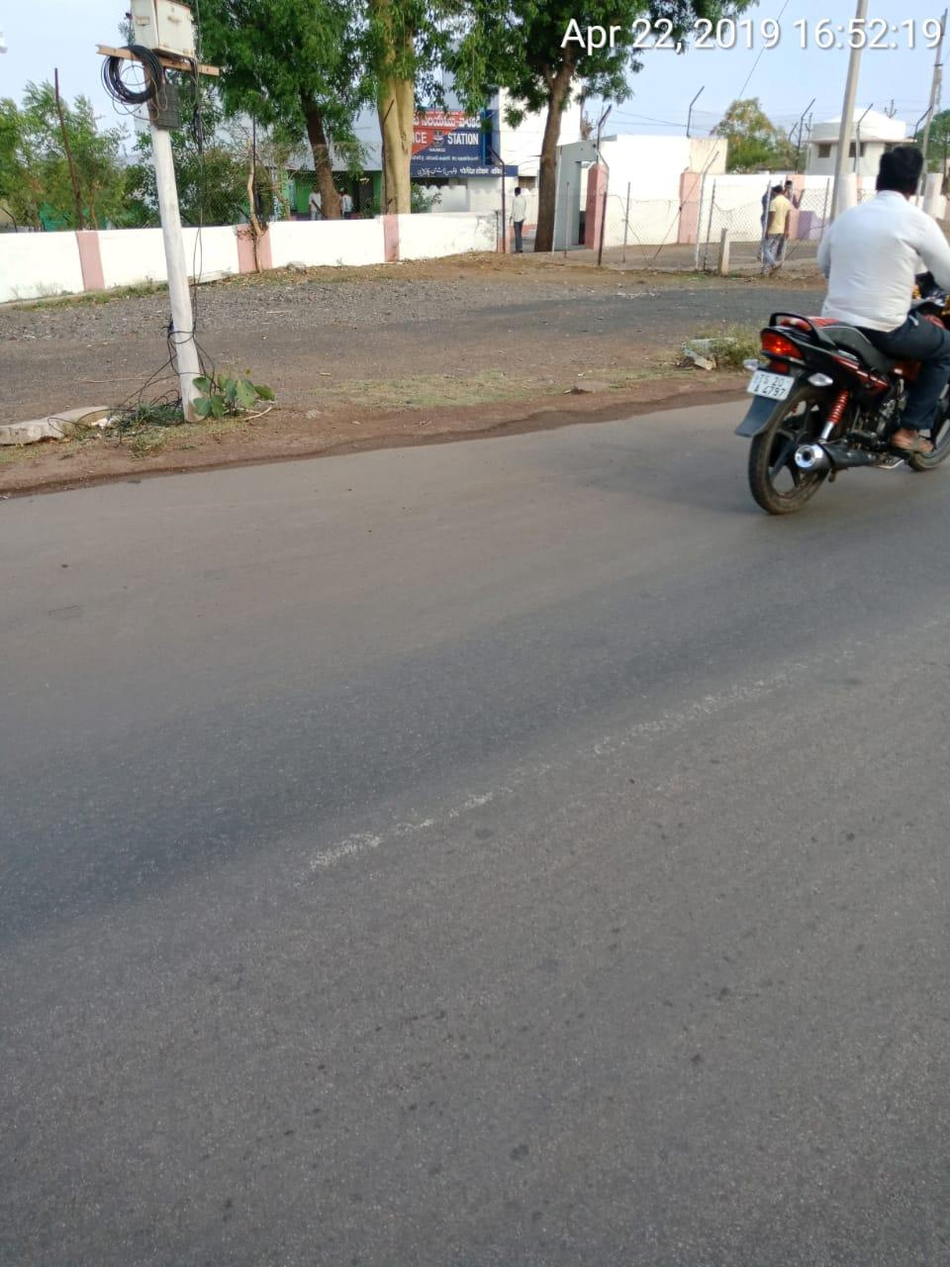plate: (736, 351, 806, 410)
